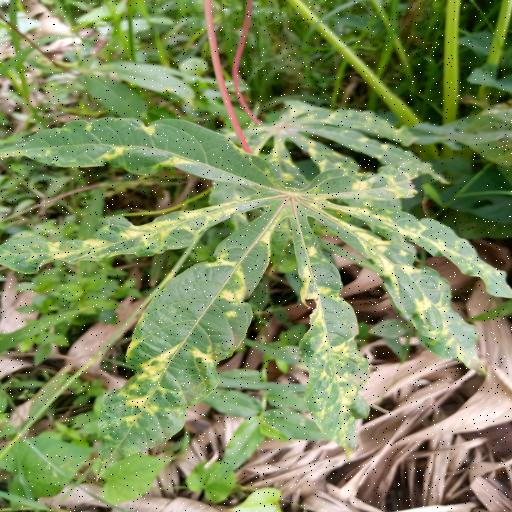Cassava_Mosaic: (5, 114, 512, 466)
